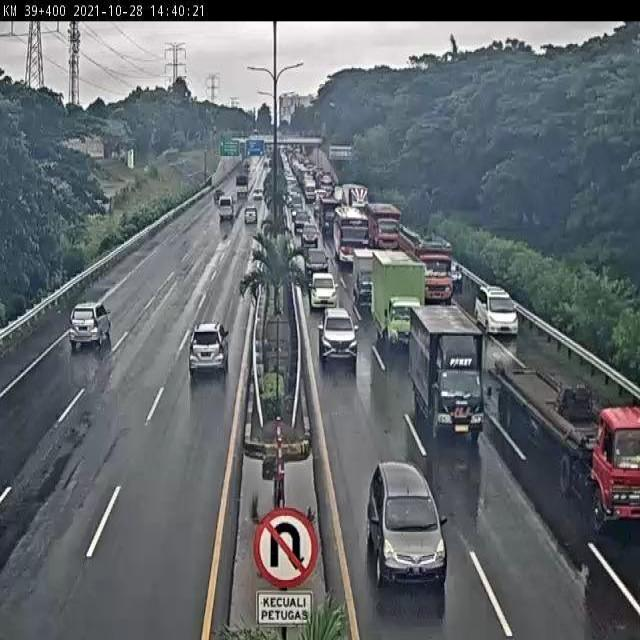ARABA: (367, 460, 448, 584), (316, 301, 355, 359), (69, 301, 113, 351), (475, 286, 518, 334), (188, 323, 230, 369), (308, 267, 337, 305), (302, 242, 328, 270)
KAMYONET: (409, 307, 486, 436), (369, 249, 420, 339), (397, 223, 449, 296), (349, 244, 376, 303)
OTOBUS: (331, 207, 365, 260)
TIR: (496, 360, 640, 532)
